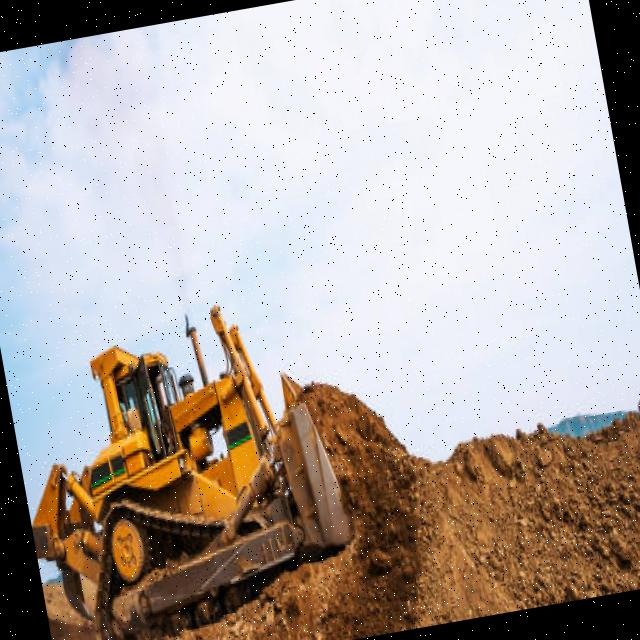Bulldozer: (0, 280, 376, 640)
